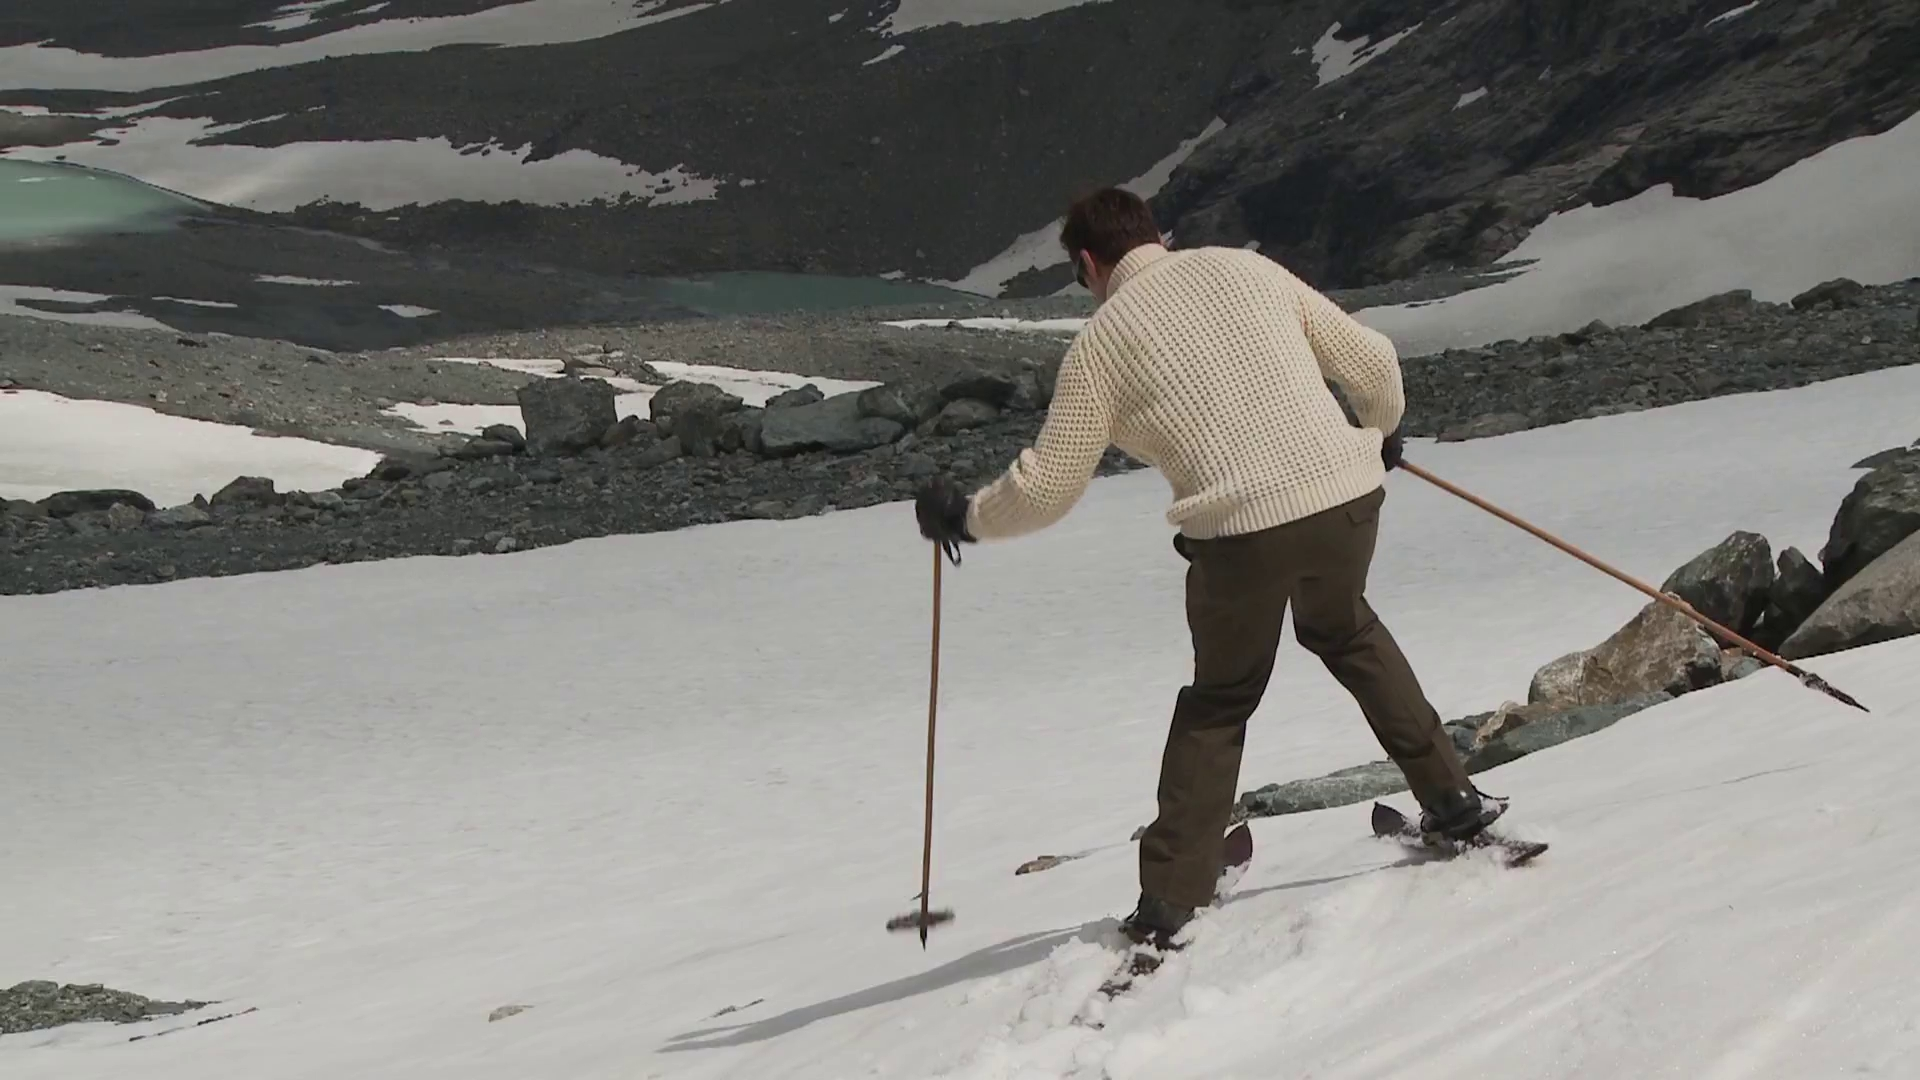person: (916, 187, 1483, 931)
